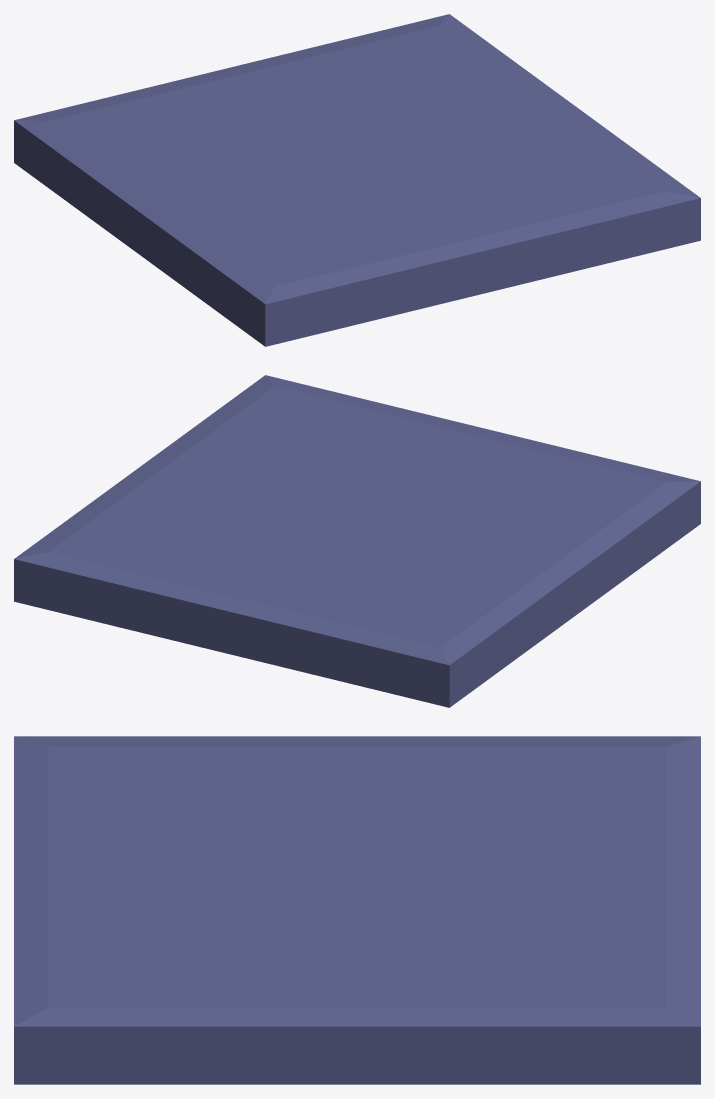
Rendered from StandIn_BasicGroundTile.fbx.
3 renders of one model, top to bottom at view 1: azimuth 30°, elevation 25°; view 2: azimuth 150°, elevation 25°; view 3: azimuth 270°, elevation 25°, orthographic. The views are drawn at different scales.
Parts seen in each view (by area): view 1: Basic Ground Tile2; view 2: Basic Ground Tile2; view 3: Basic Ground Tile2.
Part boxes in pixels (x1,y1,x2,y2): Basic Ground Tile2: (14,14,700,346); Basic Ground Tile2: (14,375,700,707); Basic Ground Tile2: (14,736,700,1084).
Size of the model in its own units: 100 by 10 by 100.
